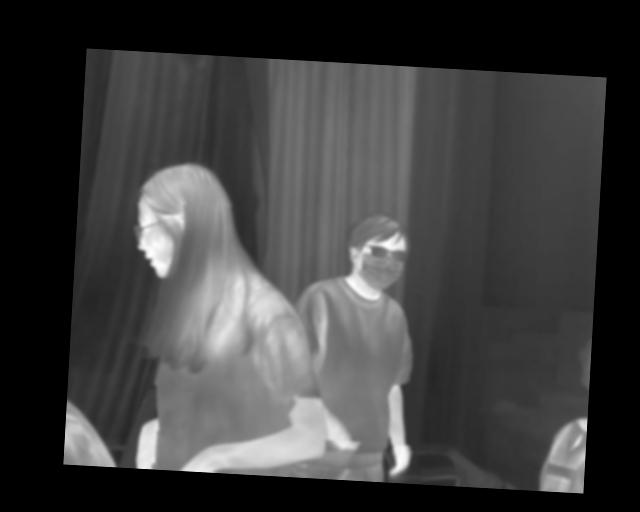face: (346, 212, 411, 290)
